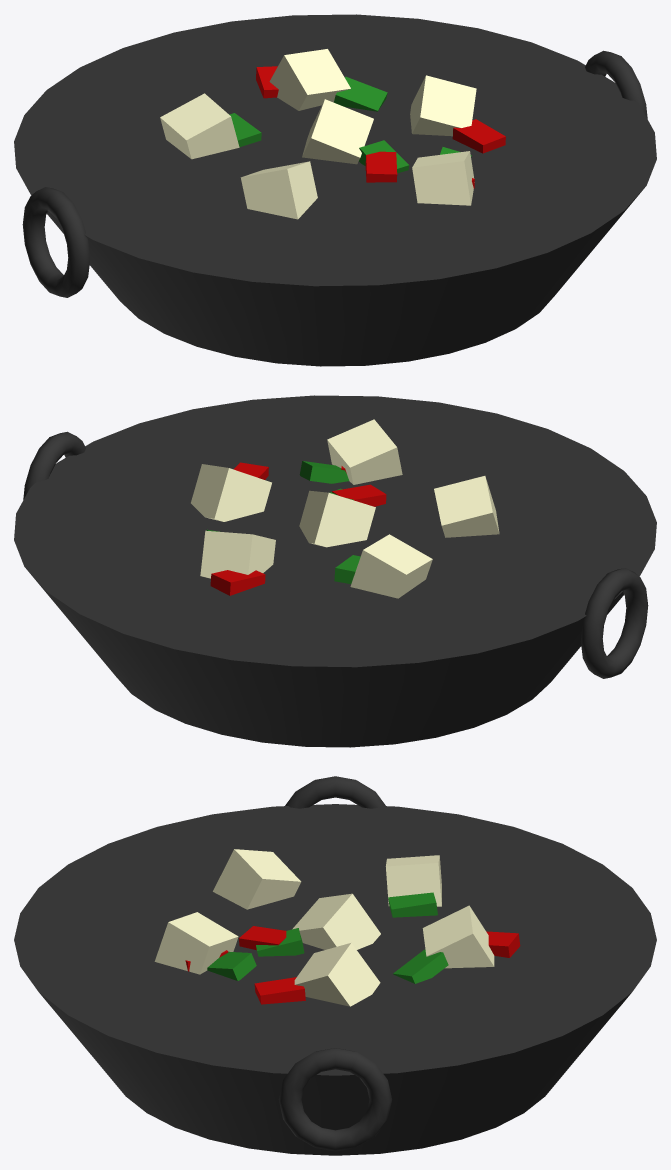
Rendered from kadai-paneer.glb.
3 views of the same model, one above another, from view 1: azimuth 30°, elevation 25°; view 2: azimuth 150°, elevation 25°; view 3: azimuth 270°, elevation 25° (orthographic).
Bounding box in the file's own units: 1.76 × 0.4823 × 1.7.
